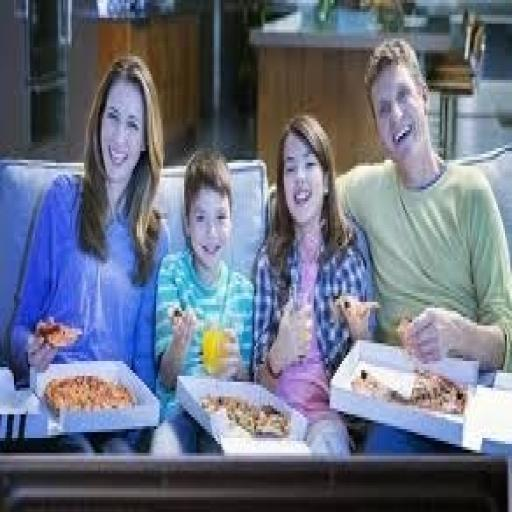eating: (10, 32, 508, 456)
